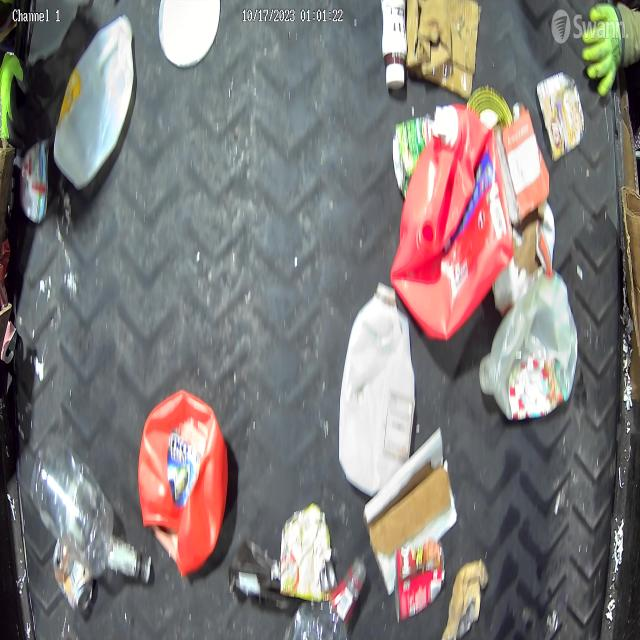can: (536, 72, 585, 162), (396, 539, 447, 620), (52, 536, 96, 616)
milk_jug: (339, 282, 417, 496), (480, 276, 578, 420), (54, 15, 134, 189)
non_white_jug: (389, 105, 514, 338), (138, 390, 228, 576)
plastic_bottle: (30, 448, 151, 582)
